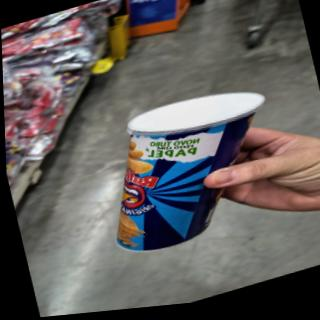food-box: (83, 99, 225, 260)
